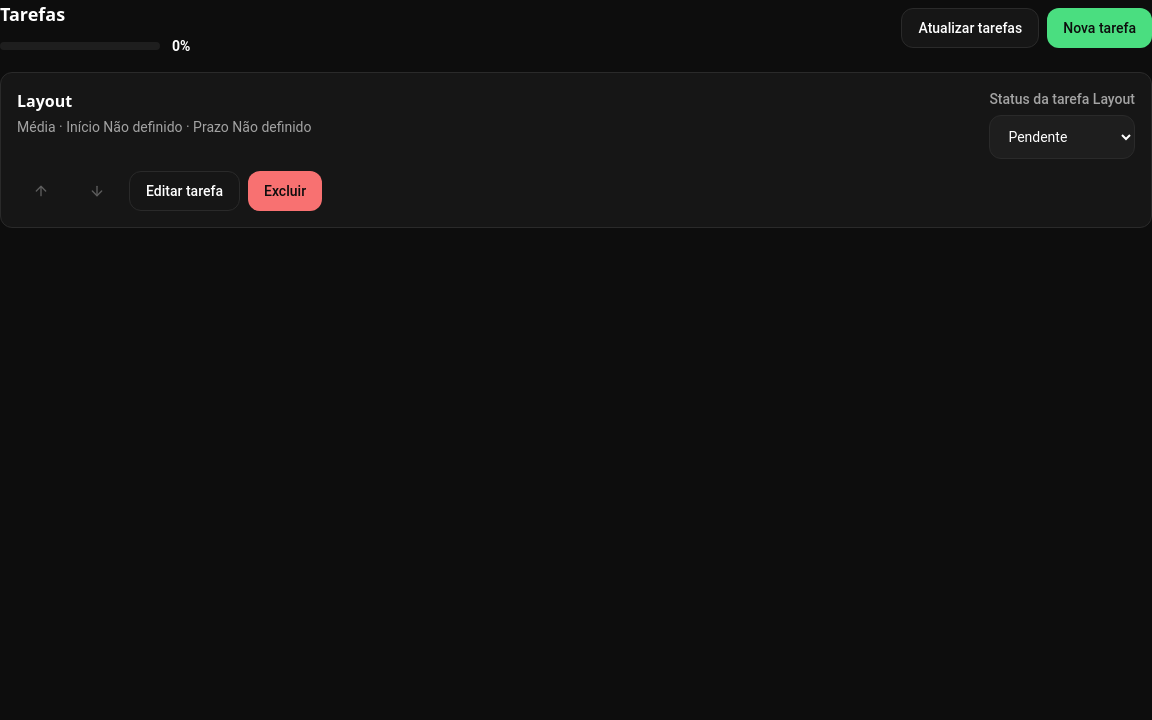
Test: ProjectTaskList › preserva exclusão confirmada quando o refresh falha
Click the button with aria-label "Excluir tarefa Layout": (285, 191) [248,171,322,211]
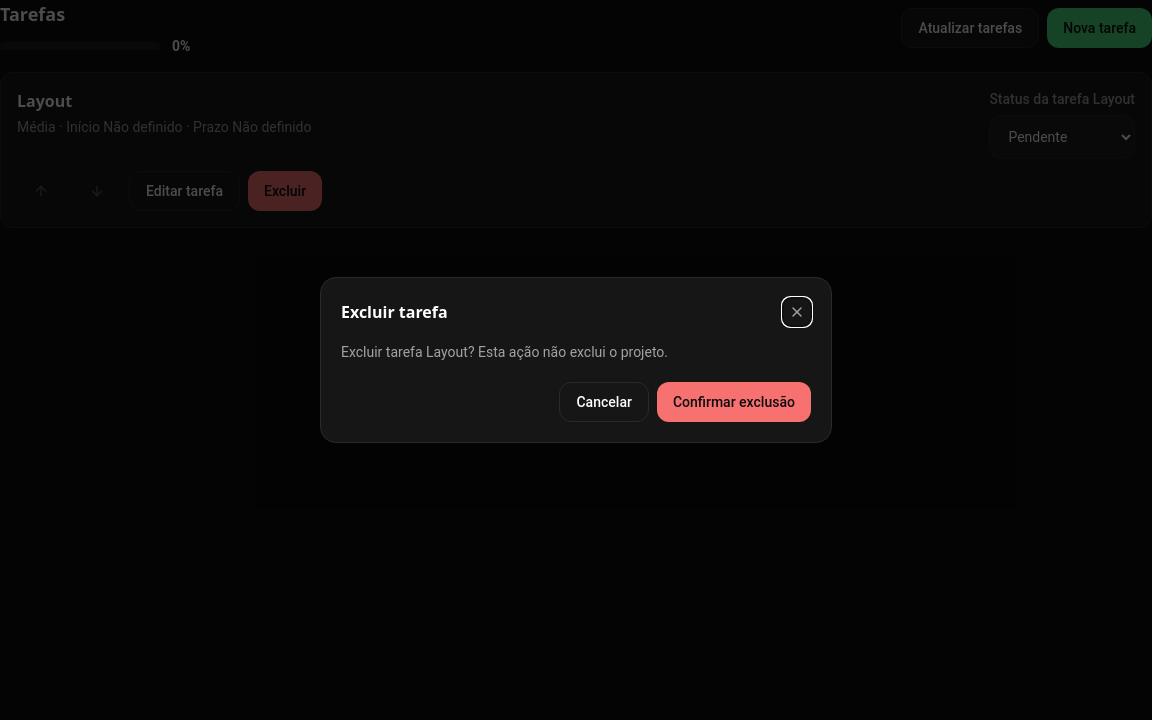
Click the button "Confirmar exclusão": (734, 402) [657,382,811,422]
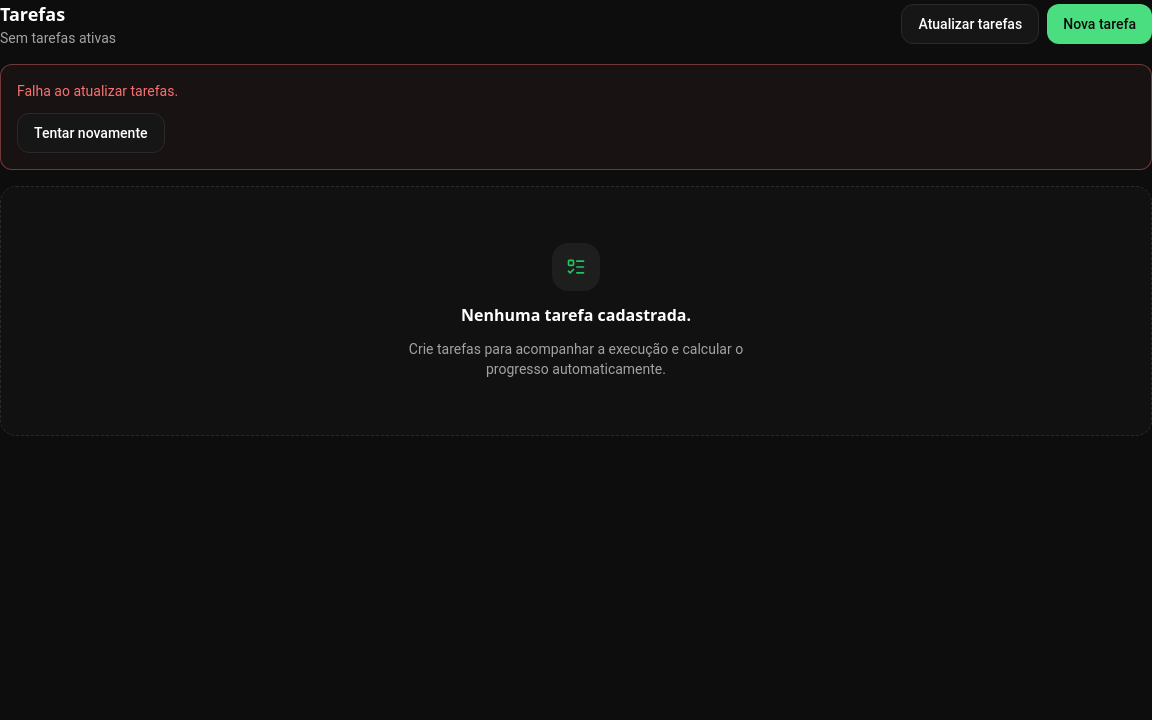
Check: the text "Falha ao atualizar tarefas." is shown, box [17,83,178,99]
Check: the heading "Layout" is gone
Check: the text "Sem tarefas ativas" is shown, box [0,28,116,48]
